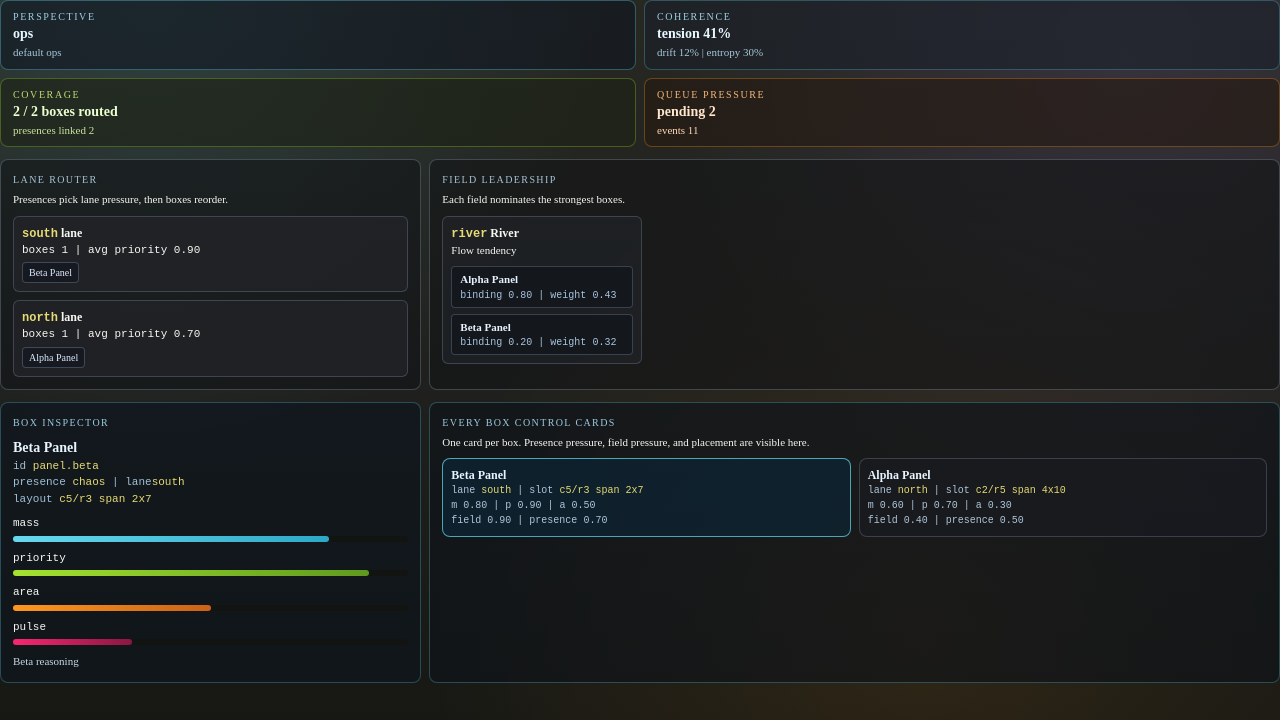
Scenario: ProjectionLedgerPanel › renders projection diagnostics and supports focus switching
Expected: the text "Perspective" is shown, [13,11,96,22]
Expected: the text "ops" is shown, [13,26,33,41]
Click the button "Alpha Panel".
click(54, 357)  # box [22,346,85,368]
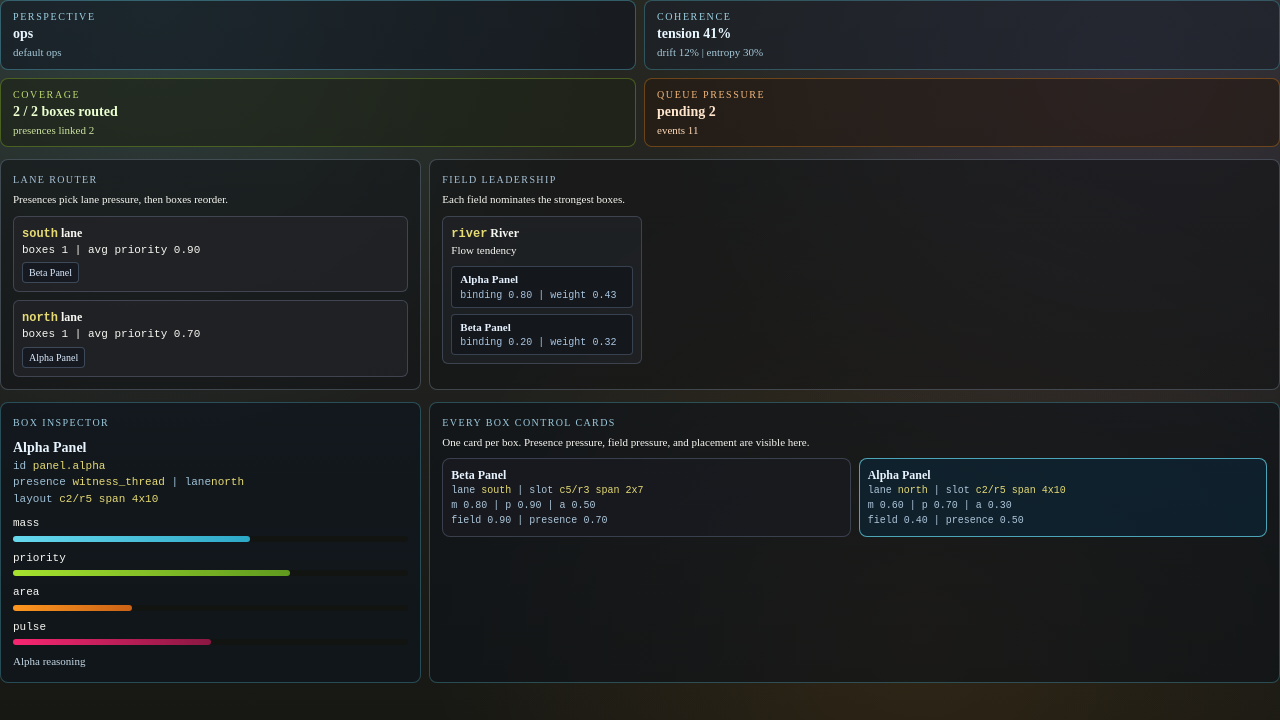
Expected: the text "Alpha reasoning" is shown, [13,655,85,667]
